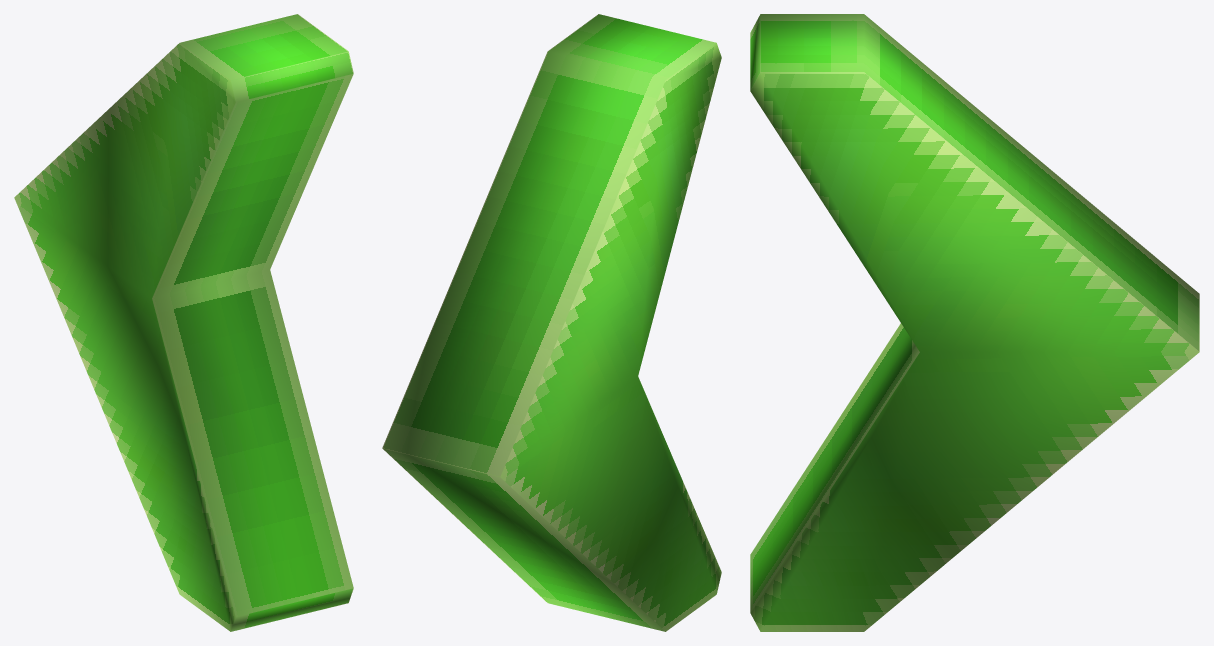
File: Arrows_02_efbfa171__Arrows_0_c318b79f_c1f257.obj
3 renders of one model, left to right at view 1: azimuth 30°, elevation 25°; view 2: azimuth 150°, elevation 25°; view 3: azimuth 270°, elevation 25°, orthographic.
Size of the model in its own units: 0.237 by 1.06 by 0.77.
1 material, 1 textured.
